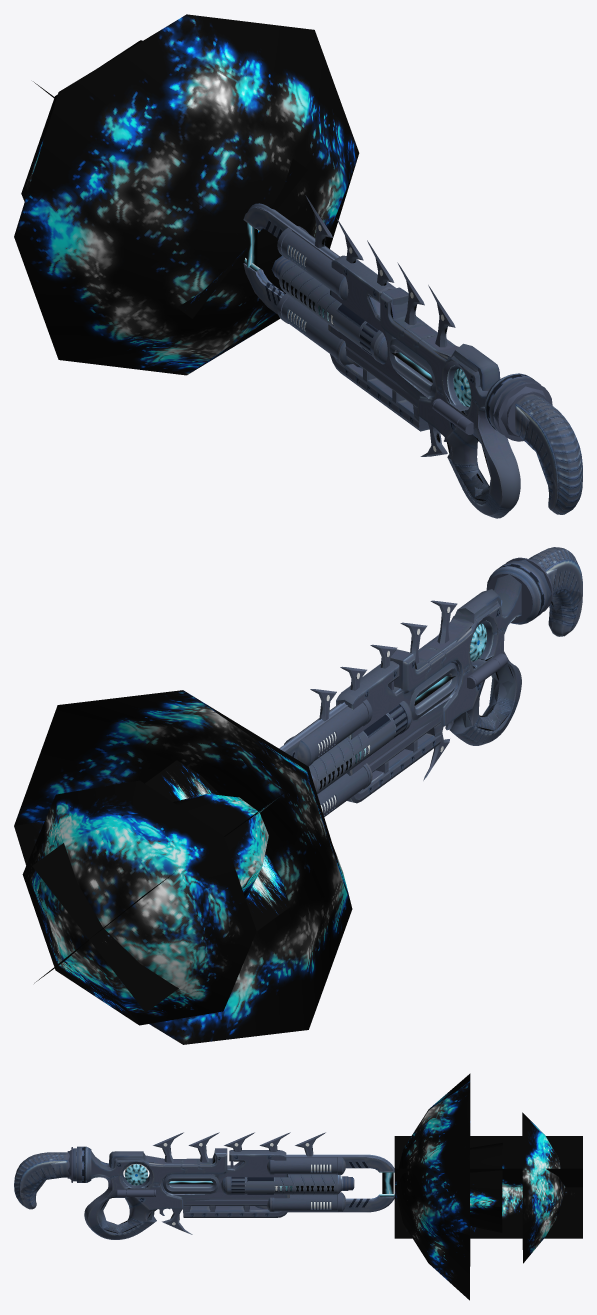
File: Kraad_AutodeskFBX2012.fbx
3 views of the same model, one above another, from view 1: azimuth 30°, elevation 25°; view 2: azimuth 150°, elevation 25°; view 3: azimuth 270°, elevation 25° (orthographic). The views are drawn at different scales.
Visible parts, largest first — view 1: Kraad_MuzzleFlash3_LOD300, Kraad_LOD300, Kraad_LOD100, Kraad_LOD200, Kraad_MuzzleFlash1_LOD300; view 2: Kraad_MuzzleFlash3_LOD300, Kraad_LOD300, Kraad_MuzzleFlash1_LOD300, Kraad_LOD100, Kraad_LOD200; view 3: Kraad_LOD300, Kraad_MuzzleFlash3_LOD300, Kraad_MuzzleFlash1_LOD300, Kraad_LOD100, Kraad_LOD200.
Part boxes in pixels (bbox=[...]): Kraad_MuzzleFlash3_LOD300: bbox=[14, 14, 359, 375]; Kraad_LOD300: bbox=[244, 195, 582, 518]; Kraad_LOD100: bbox=[243, 207, 556, 501]; Kraad_LOD200: bbox=[250, 208, 518, 513]; Kraad_MuzzleFlash1_LOD300: bbox=[33, 81, 307, 318]; Kraad_MuzzleFlash3_LOD300: bbox=[14, 690, 352, 1044]; Kraad_LOD300: bbox=[284, 547, 582, 816]; Kraad_MuzzleFlash1_LOD300: bbox=[32, 761, 287, 1012]; Kraad_LOD100: bbox=[279, 559, 582, 805]; Kraad_LOD200: bbox=[280, 577, 531, 762]; Kraad_LOD300: bbox=[14, 1132, 394, 1239]; Kraad_MuzzleFlash3_LOD300: bbox=[394, 1073, 565, 1300]; Kraad_MuzzleFlash1_LOD300: bbox=[394, 1136, 582, 1238]; Kraad_LOD100: bbox=[20, 1138, 393, 1234]; Kraad_LOD200: bbox=[21, 1139, 386, 1238].
Size of what is drawn, in the model's own units: 25.42 by 25.43 by 62.71.
